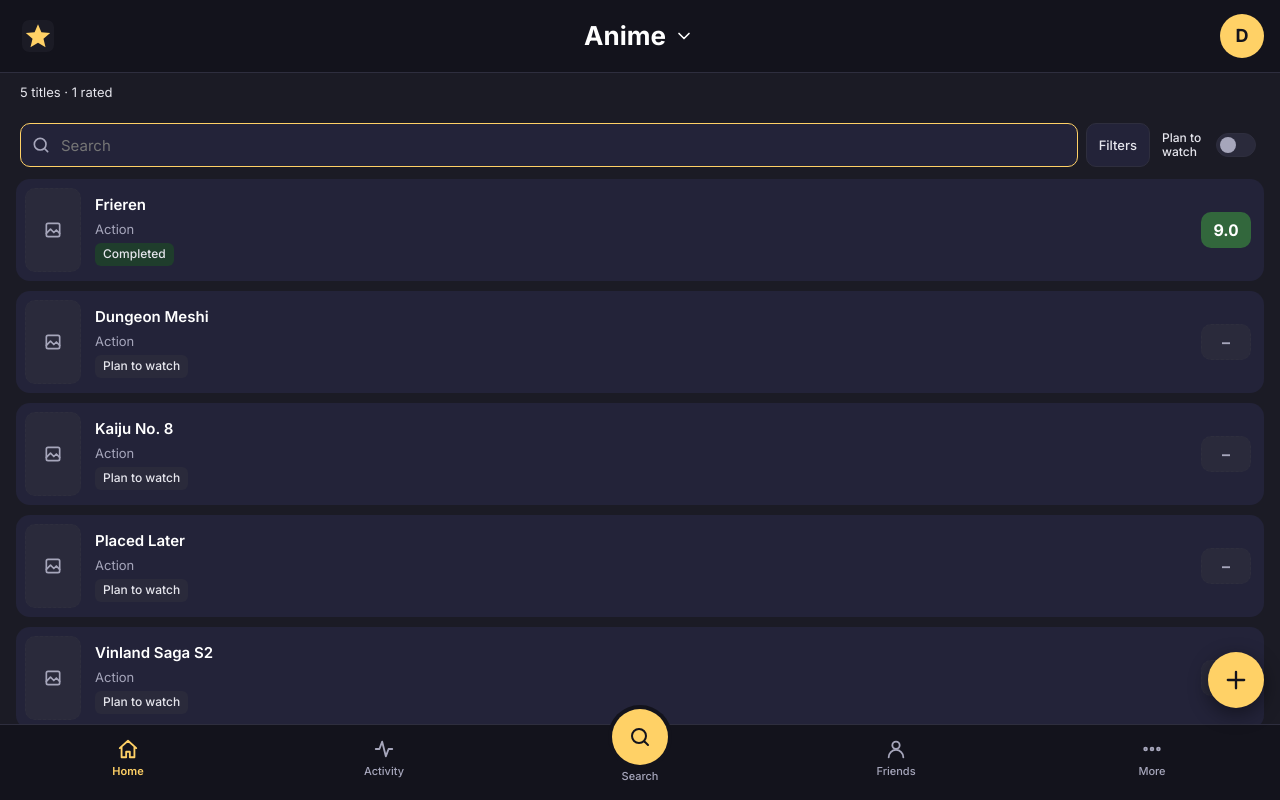
Test: Plan to watch view › the switch shows only planned titles in plan order, with positions, "Up next" and no rating badge
Check: the text "Frieren" is shown, box [95, 194, 146, 215]
What coordinates should you click on to do the following:
click the switch labelled "Plan to watch"
I would click on:
 (1209, 145)
Its box is [1158, 123, 1260, 167].
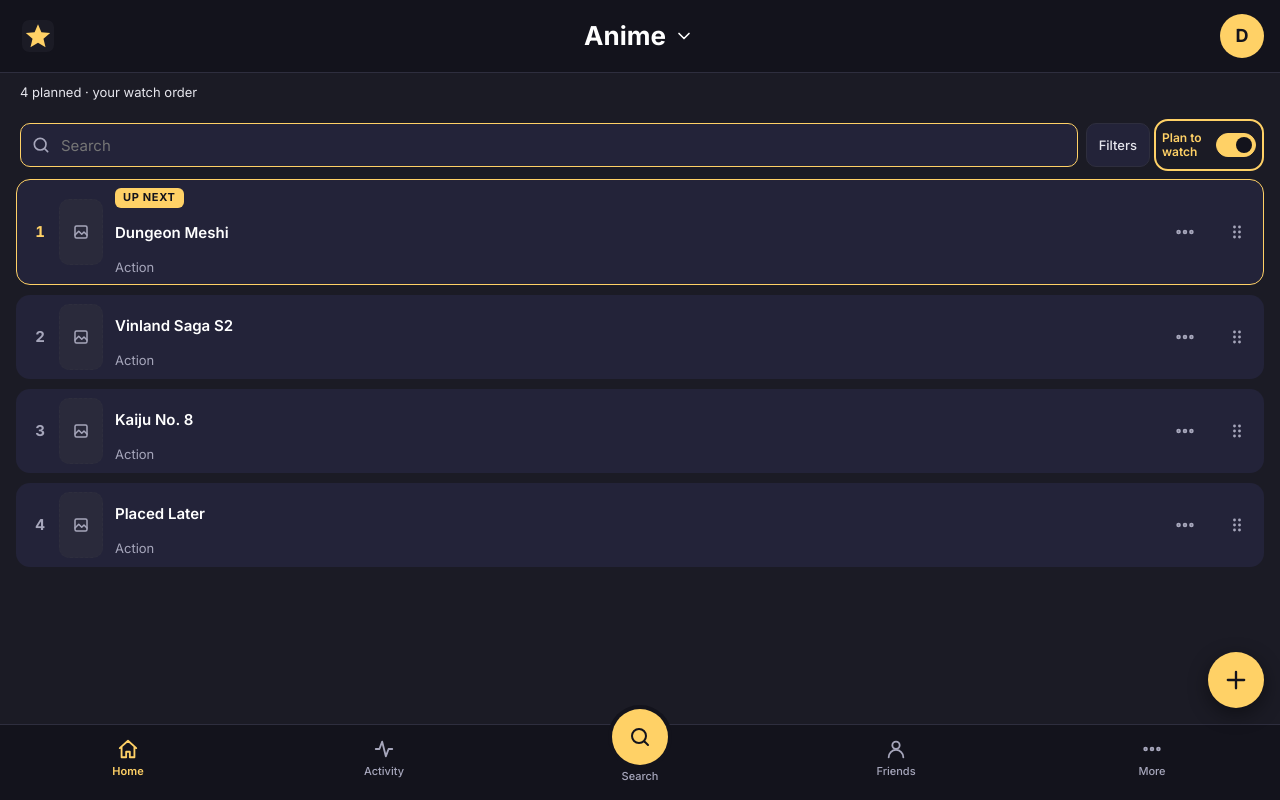
Check: the text "4 planned · your watch order" is shown, box [20, 84, 197, 100]
Check: the list item "1 Up next Dungeon Meshi Action" is shown, box [16, 179, 1264, 285]
Check: the text "Up next" is shown once, box [115, 188, 184, 208]
# off again: everything, sorted as before
What coordinates should you click on to do the following:
click the switch labelled "Plan to watch"
I would click on:
 (1209, 145)
Its box is [1158, 123, 1260, 167].
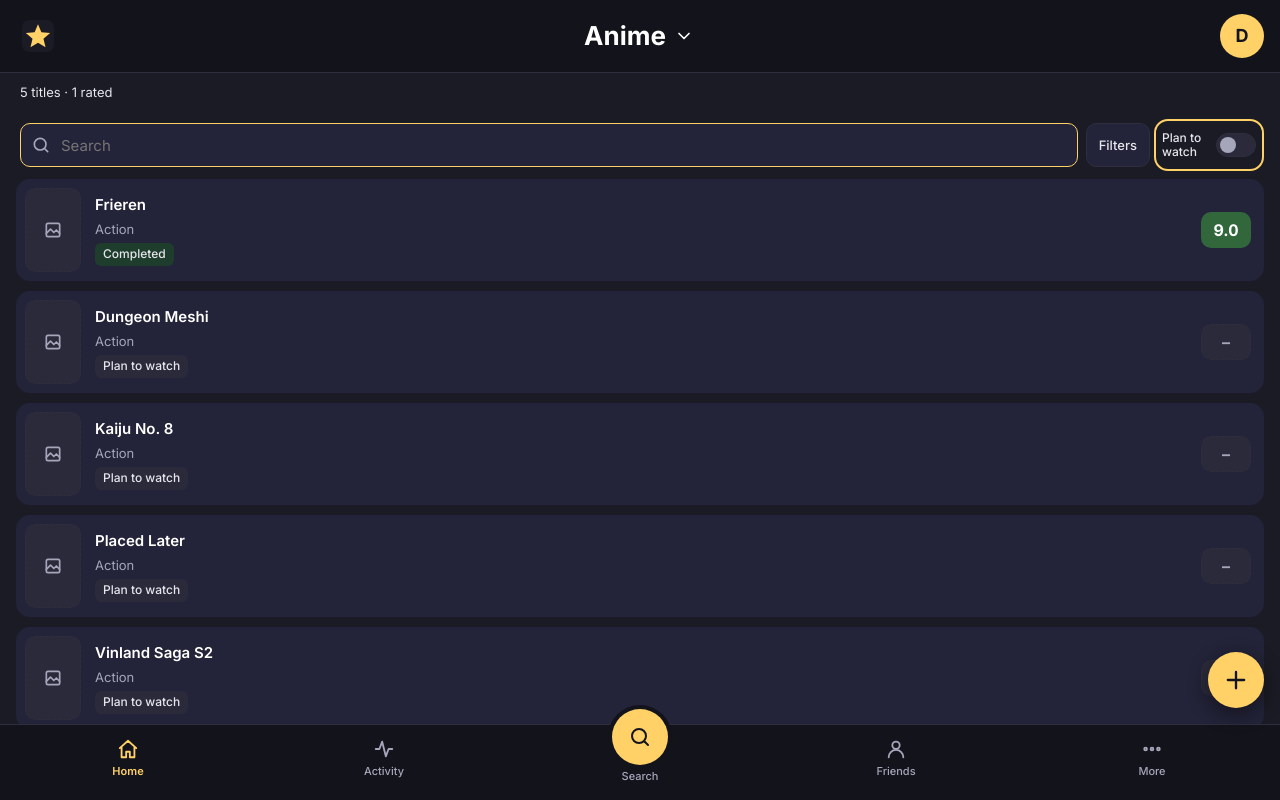
Check: the text "Frieren" is shown, box [95, 194, 146, 215]
